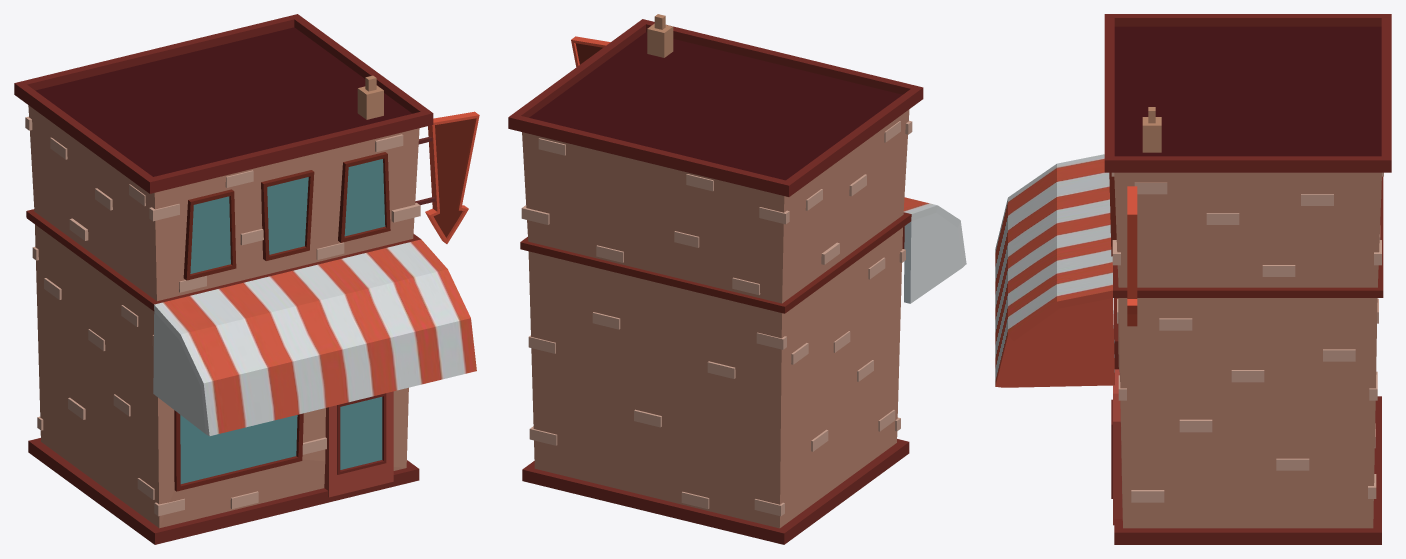
The model's file is low-poly_cafe.glb.
The picture shows the model from 3 angles, left to right: view 1: azimuth 30°, elevation 25°; view 2: azimuth 150°, elevation 25°; view 3: azimuth 270°, elevation 25°; orthographic projection. The views are drawn at different scales.
Parts seen in each view (by area): view 1: Cafe, Cloth thing, Windows, Door, Bricks, Sign; view 2: Cafe, Bricks, Cloth thing, Sign; view 3: Cafe, Cloth thing, Bricks, Sign, Door.
Part boxes in pixels (x1=…): Cafe: x1=14, y1=14, x2=433, y2=544; Cloth thing: x1=153, y1=239, x2=476, y2=436; Windows: x1=183, y1=152, x2=390, y2=280; Door: x1=324, y1=391, x2=393, y2=497; Bricks: x1=25, y1=116, x2=420, y2=516; Sign: x1=415, y1=111, x2=479, y2=243; Cafe: x1=508, y1=14, x2=923, y2=544; Bricks: x1=521, y1=120, x2=912, y2=516; Cloth thing: x1=902, y1=197, x2=966, y2=303; Sign: x1=571, y1=36, x2=610, y2=66; Cafe: x1=1104, y1=14, x2=1391, y2=544; Cloth thing: x1=995, y1=154, x2=1114, y2=387; Bricks: x1=1111, y1=172, x2=1383, y2=502; Sign: x1=1127, y1=186, x2=1137, y2=326; Door: x1=1111, y1=369, x2=1122, y2=525.
Bounding box in the file's own units: 550 × 613 × 524.
2 materials, 2 textured.
